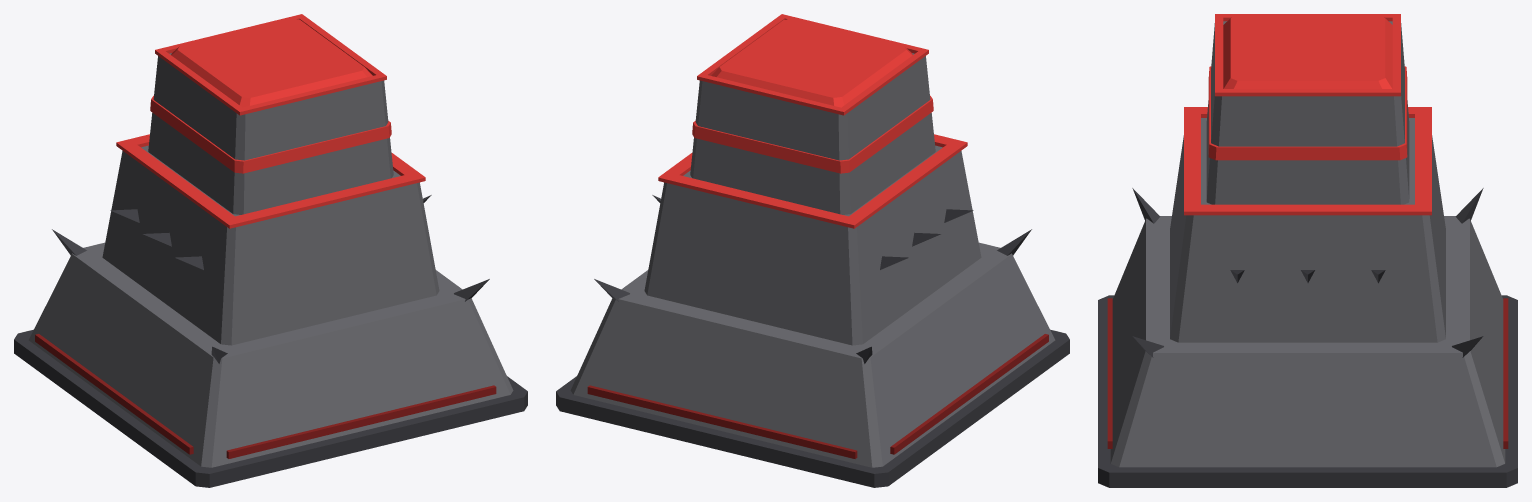
The model's file is void_monolith_e.obj.
3 renders of one model, left to right at view 1: azimuth 30°, elevation 25°; view 2: azimuth 150°, elevation 25°; view 3: azimuth 270°, elevation 25°, orthographic. The views are drawn at different scales.
Visible parts, largest first — view 1: void_monolith_e_1, void_monolith_e_2, void_monolith_e_3, void_monolith_e_0, void_monolith_e_4, void_monolith_e_26, void_monolith_e_13, void_monolith_e_9, void_monolith_e_12, void_monolith_e_15, void_monolith_e_5, void_monolith_e_8 (+1 smaller); view 2: void_monolith_e_1, void_monolith_e_2, void_monolith_e_3, void_monolith_e_0, void_monolith_e_4, void_monolith_e_26, void_monolith_e_14, void_monolith_e_11, void_monolith_e_12, void_monolith_e_15, void_monolith_e_7, void_monolith_e_8 (+1 smaller); view 3: void_monolith_e_1, void_monolith_e_2, void_monolith_e_3, void_monolith_e_4, void_monolith_e_0, void_monolith_e_26, void_monolith_e_10, void_monolith_e_9, void_monolith_e_11, void_monolith_e_6, void_monolith_e_13, void_monolith_e_14 (+3 smaller).
Part boxes in pixels (left/top/right/bottom): void_monolith_e_1: left=28, top=242, right=513, bottom=467; void_monolith_e_2: left=102, top=145, right=439, bottom=345; void_monolith_e_3: left=148, top=53, right=393, bottom=214; void_monolith_e_0: left=14, top=329, right=527, bottom=487; void_monolith_e_4: left=171, top=19, right=372, bottom=107; void_monolith_e_26: left=150, top=95, right=391, bottom=173; void_monolith_e_13: left=226, top=385, right=496, bottom=458; void_monolith_e_9: left=229, top=175, right=425, bottom=228; void_monolith_e_12: left=116, top=142, right=234, bottom=228; void_monolith_e_15: left=35, top=334, right=193, bottom=454; void_monolith_e_5: left=240, top=75, right=386, bottom=115; void_monolith_e_8: left=155, top=50, right=242, bottom=115; void_monolith_e_1: left=570, top=242, right=1055, bottom=467; void_monolith_e_2: left=644, top=145, right=981, bottom=345; void_monolith_e_3: left=690, top=53, right=935, bottom=214; void_monolith_e_0: left=556, top=329, right=1069, bottom=487; void_monolith_e_4: left=711, top=19, right=912, bottom=107; void_monolith_e_26: left=692, top=95, right=933, bottom=173; void_monolith_e_14: left=587, top=385, right=857, bottom=458; void_monolith_e_11: left=658, top=175, right=854, bottom=228; void_monolith_e_12: left=849, top=142, right=967, bottom=228; void_monolith_e_15: left=890, top=334, right=1048, bottom=454; void_monolith_e_7: left=697, top=75, right=843, bottom=115; void_monolith_e_8: left=841, top=50, right=928, bottom=115; void_monolith_e_1: left=1110, top=216, right=1505, bottom=467; void_monolith_e_2: left=1170, top=118, right=1445, bottom=342; void_monolith_e_3: left=1206, top=21, right=1409, bottom=204; void_monolith_e_4: left=1223, top=15, right=1392, bottom=88; void_monolith_e_0: left=1098, top=295, right=1517, bottom=487; void_monolith_e_26: left=1208, top=66, right=1407, bottom=160; void_monolith_e_10: left=1184, top=204, right=1431, bottom=215; void_monolith_e_9: left=1184, top=107, right=1200, bottom=211; void_monolith_e_11: left=1415, top=107, right=1431, bottom=211; void_monolith_e_6: left=1215, top=89, right=1400, bottom=96; void_monolith_e_13: left=1107, top=298, right=1112, bottom=448; void_monolith_e_14: left=1503, top=298, right=1508, bottom=448.
Bounding box in the file's own units: 2.98 × 2.75 × 2.98.
